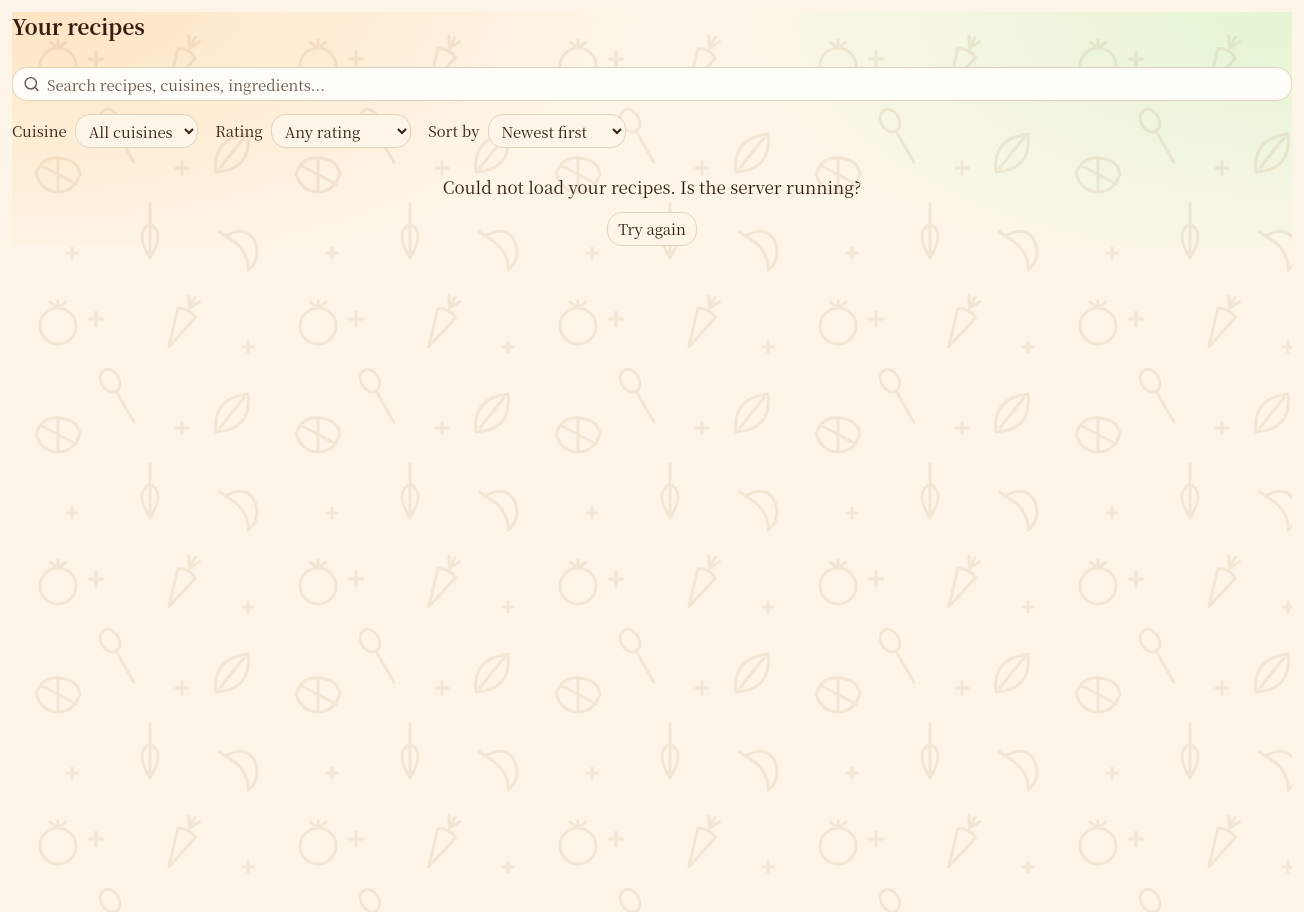
Test case: RecipeListPage › shows an error and recovers when the user retries
The image size is (1304, 912).
Expected: the message shows "Could not load your recipes", [443,174,861,198]
What coordinates should you click on to do the following:
click the button "Try again"
I would click on:
 (652, 229)
Its box is [606,212,697,246].
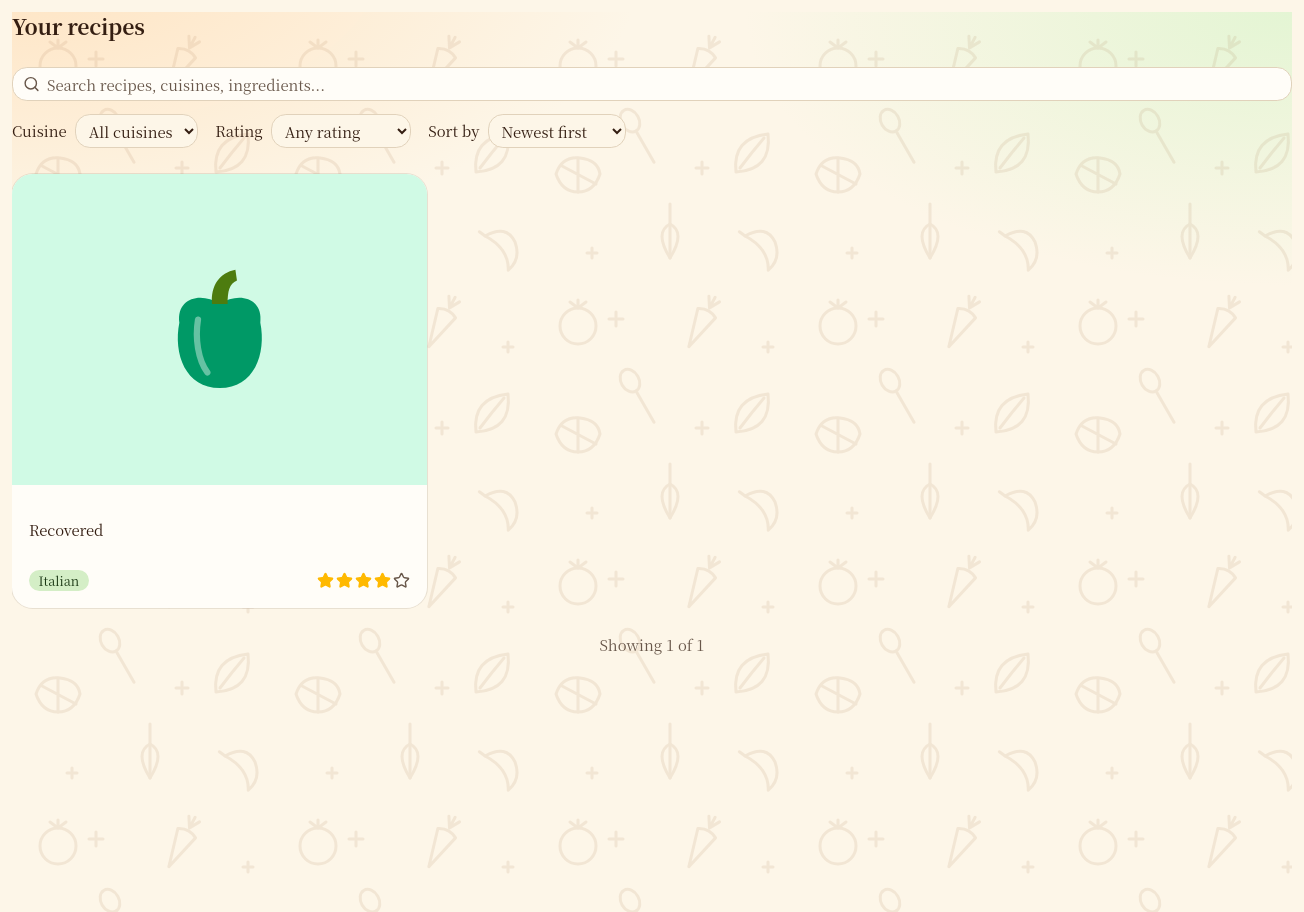
Expected: the heading "Recovered" is shown, [29,519,103,540]
